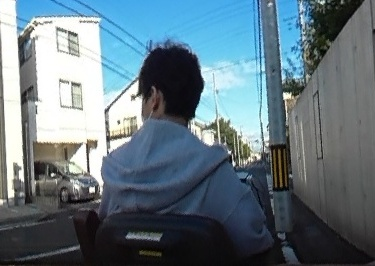person: (99, 42, 258, 260)
